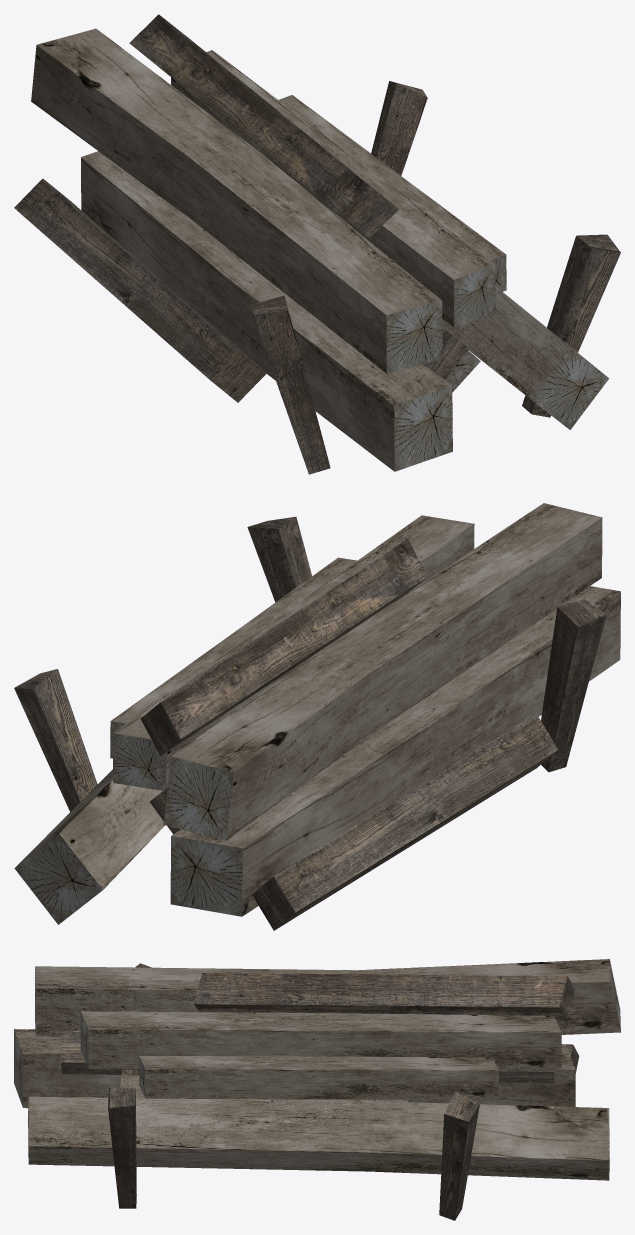
File: Woodpile_LOD02.fbx
3 views of the same model, one above another, from view 1: azimuth 30°, elevation 25°; view 2: azimuth 150°, elevation 25°; view 3: azimuth 270°, elevation 25° (orthographic). The views are drawn at different scales.
Visible parts, largest first — view 1: Mesh Object; view 2: Mesh Object; view 3: Mesh Object.
Boxes of the visible parts, x1,y1,x2,y2 form: Mesh Object: (14,14,620,474); Mesh Object: (14,503,620,930); Mesh Object: (14,959,620,1220).
Size of the model in its own units: 0.7852 by 0.4714 by 1.36.
